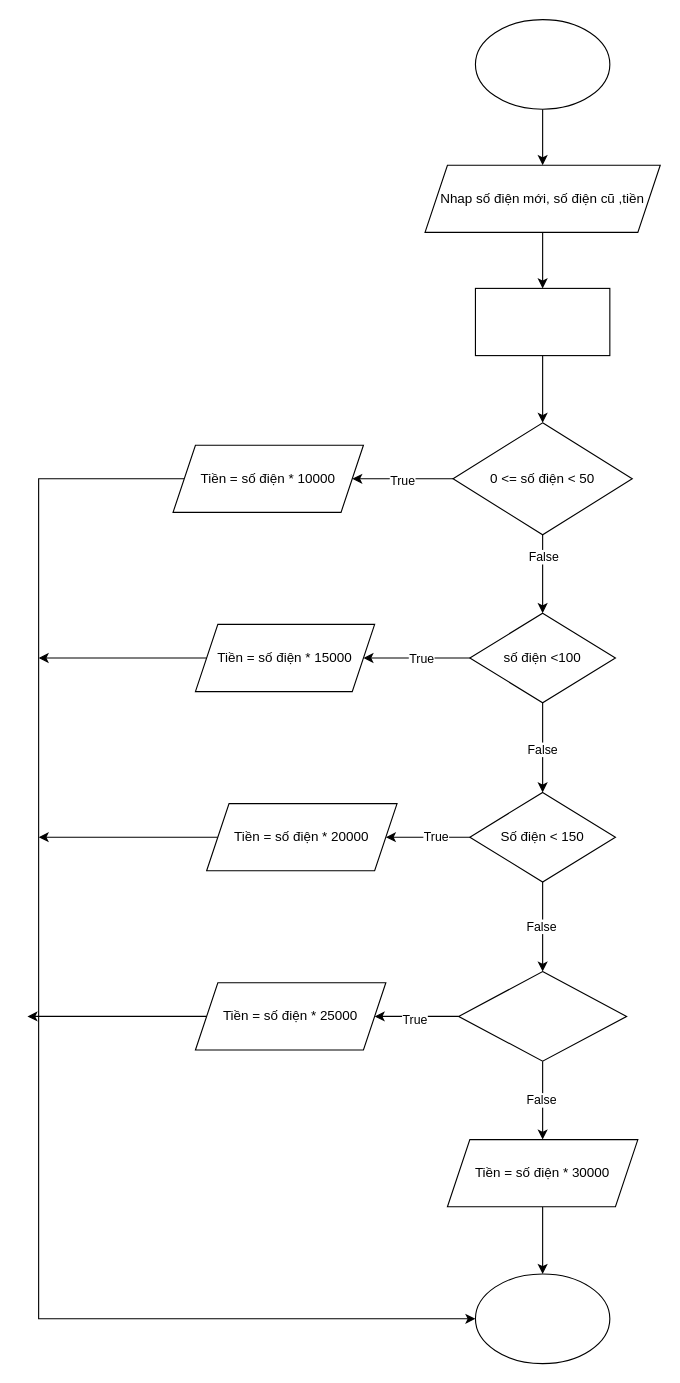
This 680x1383 diagram has some shape labels left out. The shapes that lost their labels are listed below. From the top down, each one's centre as x and y in pixels, then its label:
pixel 542 63: starrt
pixel 542 321: Số diện = số điện mới - số điện cũ
pixel 542 1015: Số điện < 200
pixel 542 1318: End
